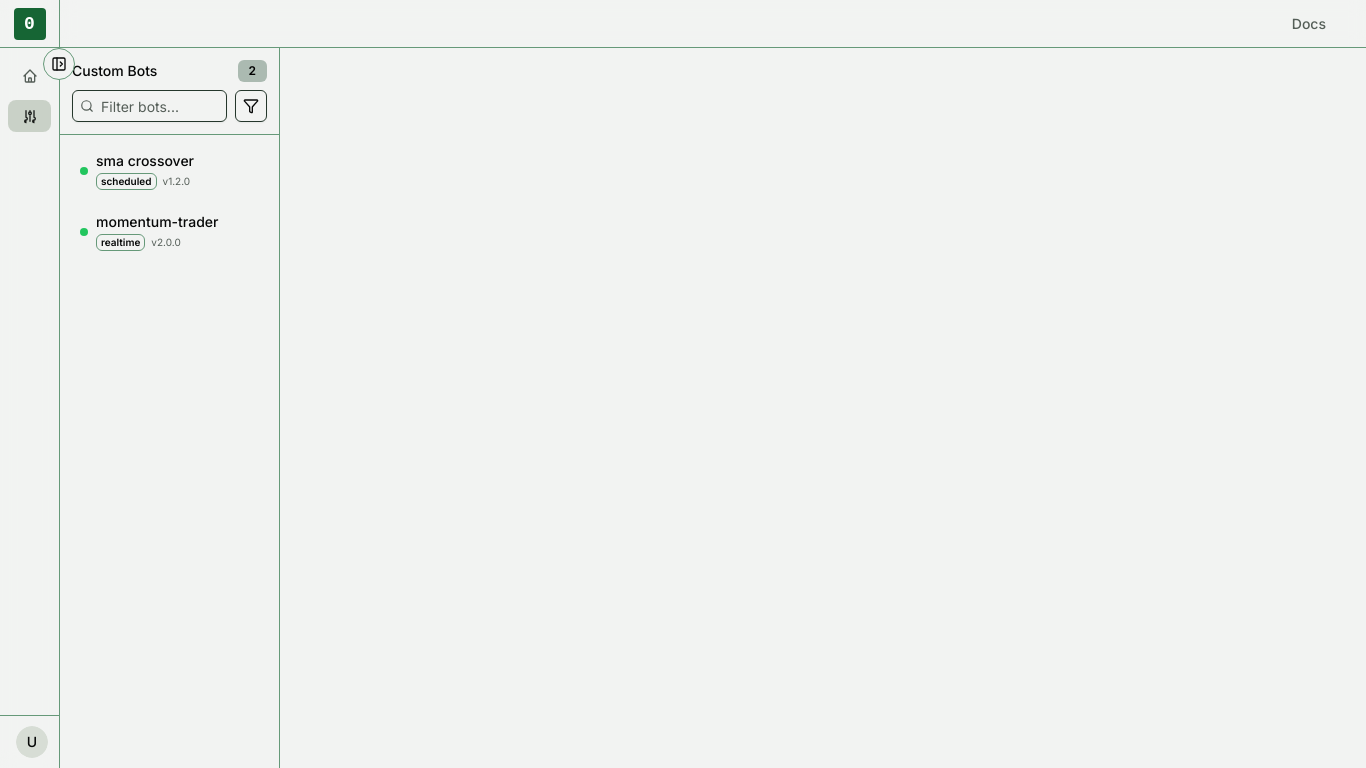
Test: custom bots layout › desktop sidebar › filters by type from the filter menu
Click the button named "Filter custom bots": click(251, 106) [235,90,267,122]
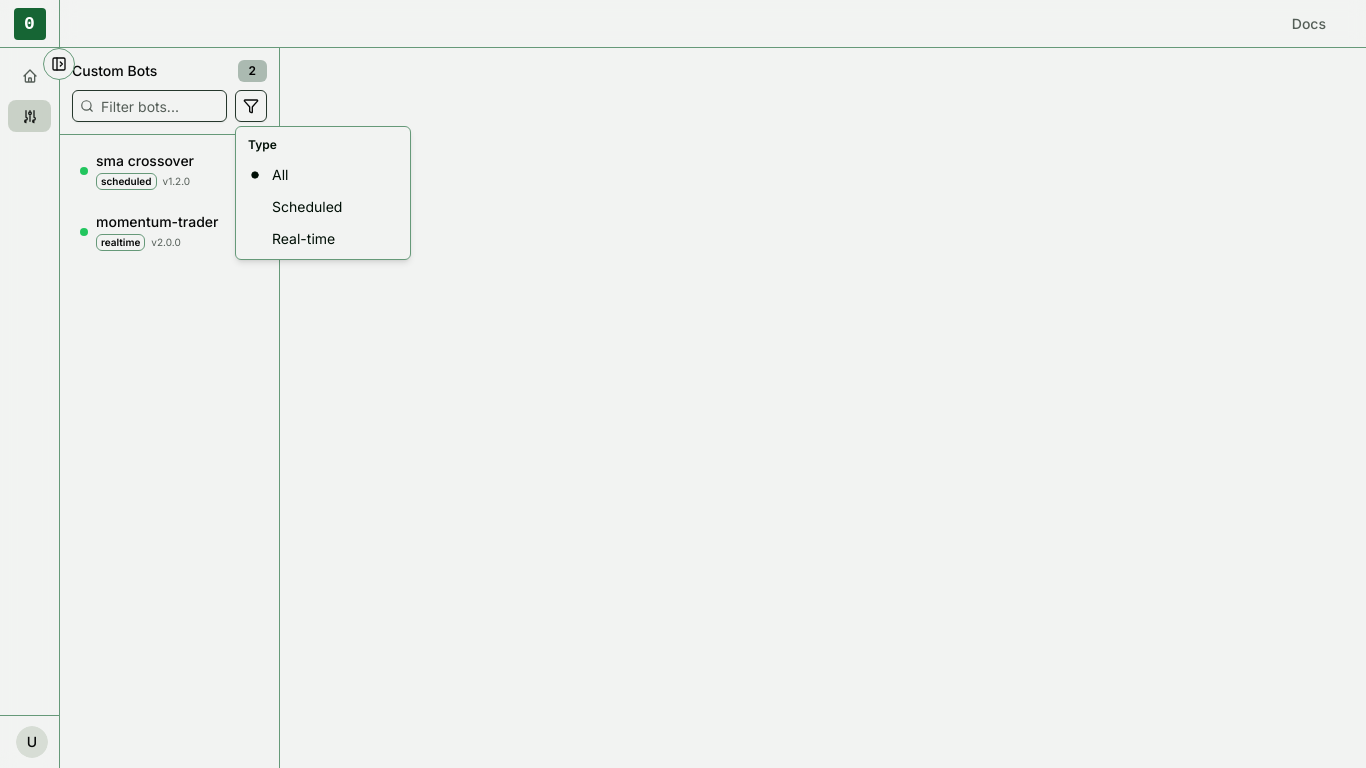
Click the menu item "Scheduled": click(307, 206) [272,198,342,215]
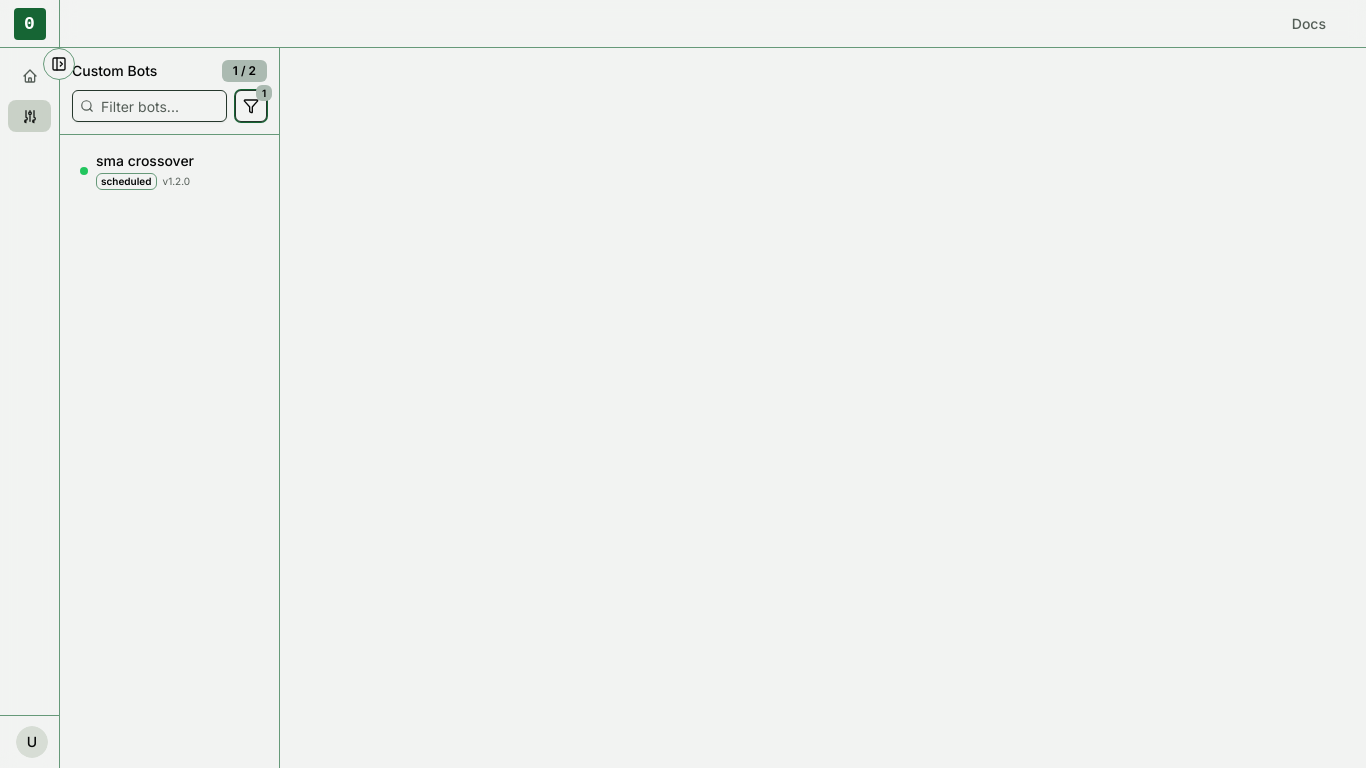
Check: the text "1 / 2" is shown, box [222,60,267,82]
Check: the button named "Filter custom bots (1 active)" is shown, box [235,90,267,122]
Check: the button "momentum-trader" is gone
